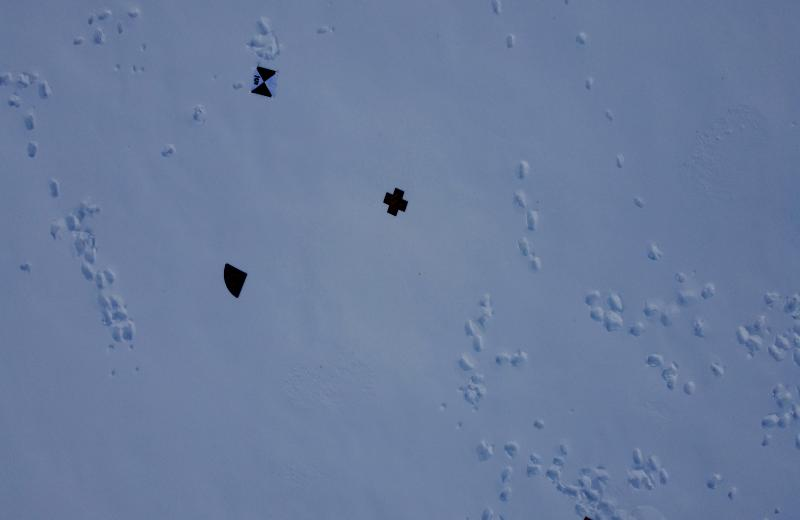Cross: (383, 183, 410, 218)
Quarter Circle: (221, 261, 250, 303)
